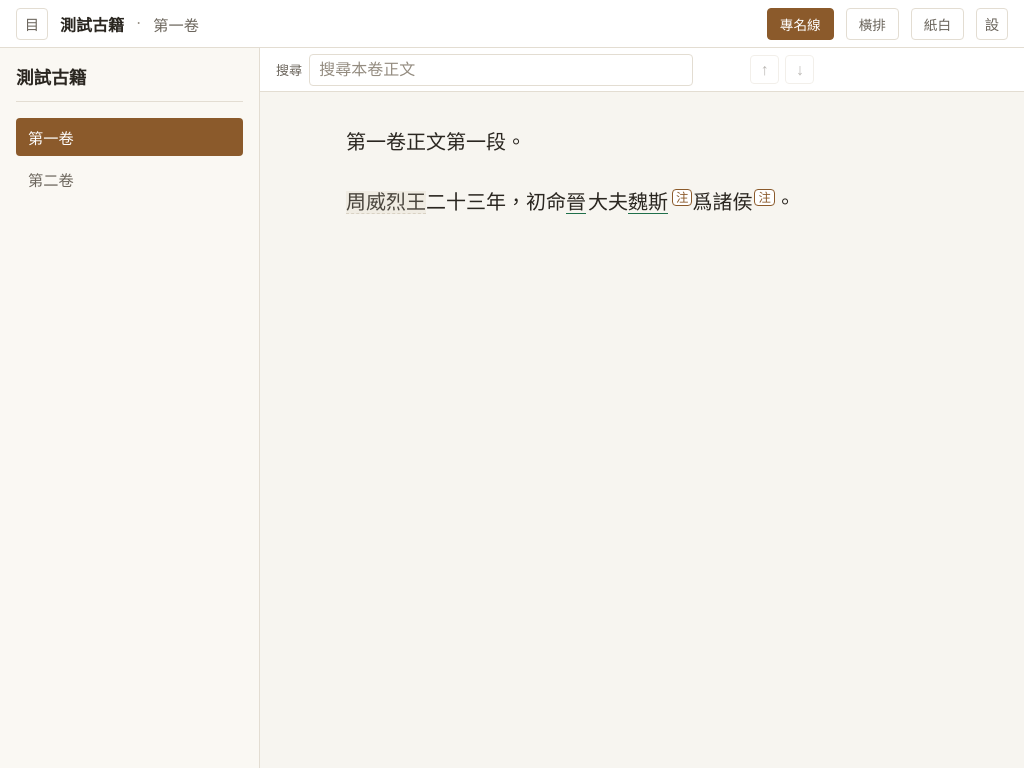
it: 古注 popover › is not affected by the 專名線 toggle
Expected: the text "第一卷正文第一段。" is shown, [346,131,526,153]
Click the button with aria-label "切換專名線": (800, 24) [767,8,834,40]
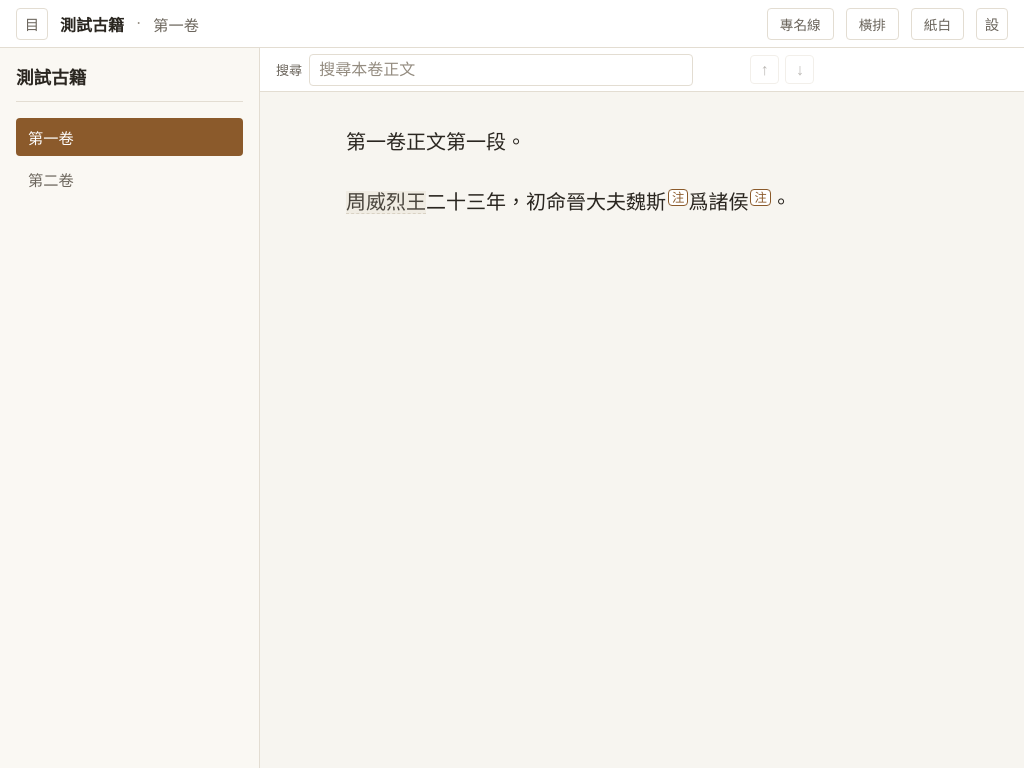
Click the button "周威烈王": (386, 203) [346,191,426,214]
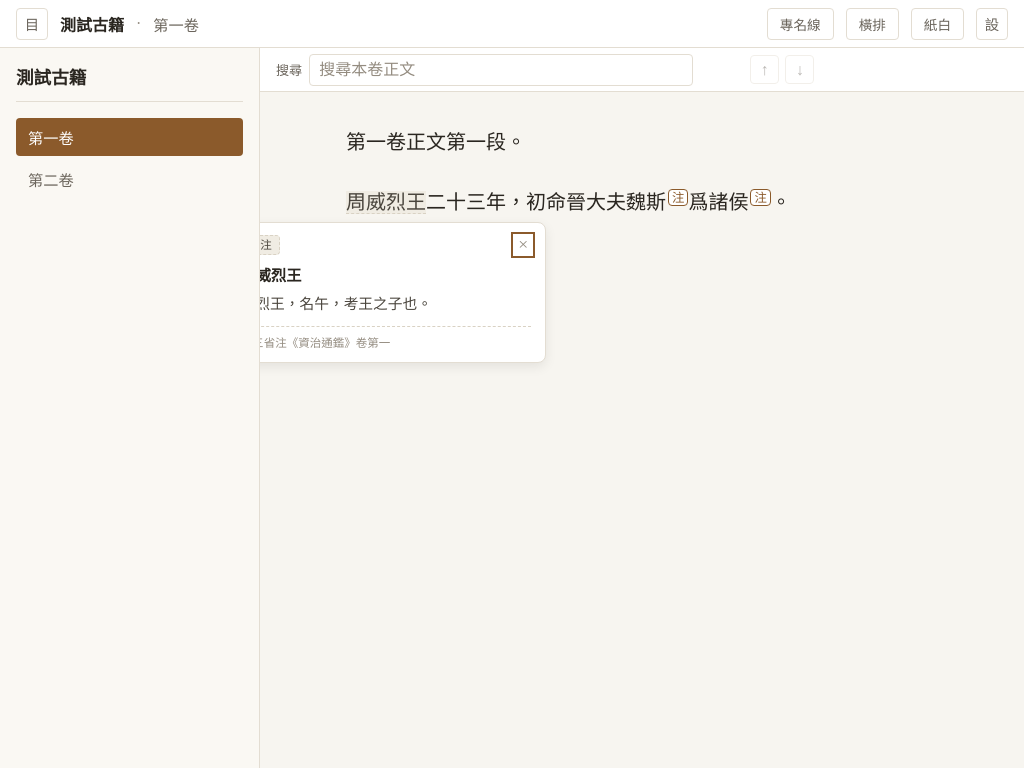
Expected: the dialog "古注" is shown, [260,222,546,363]
